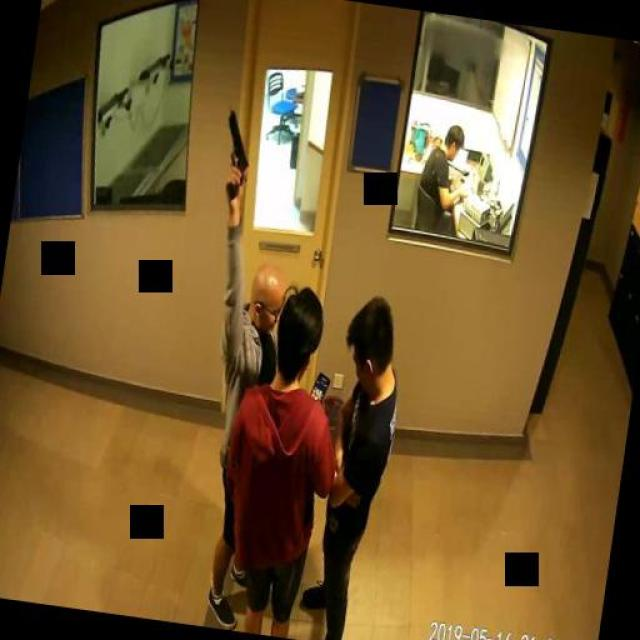gun: (216, 109, 255, 200)
